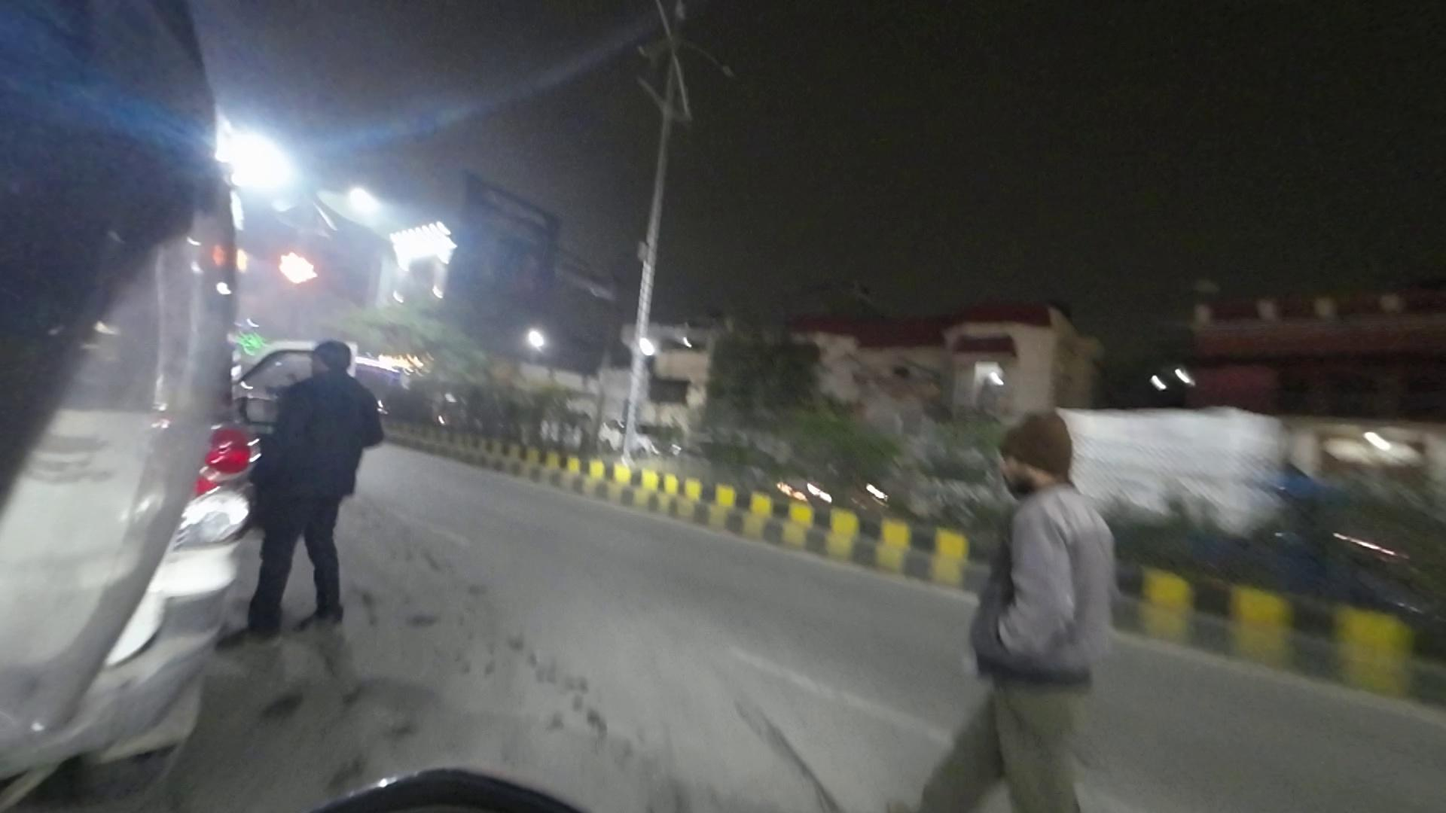streetlight: (698, 50, 740, 82)
